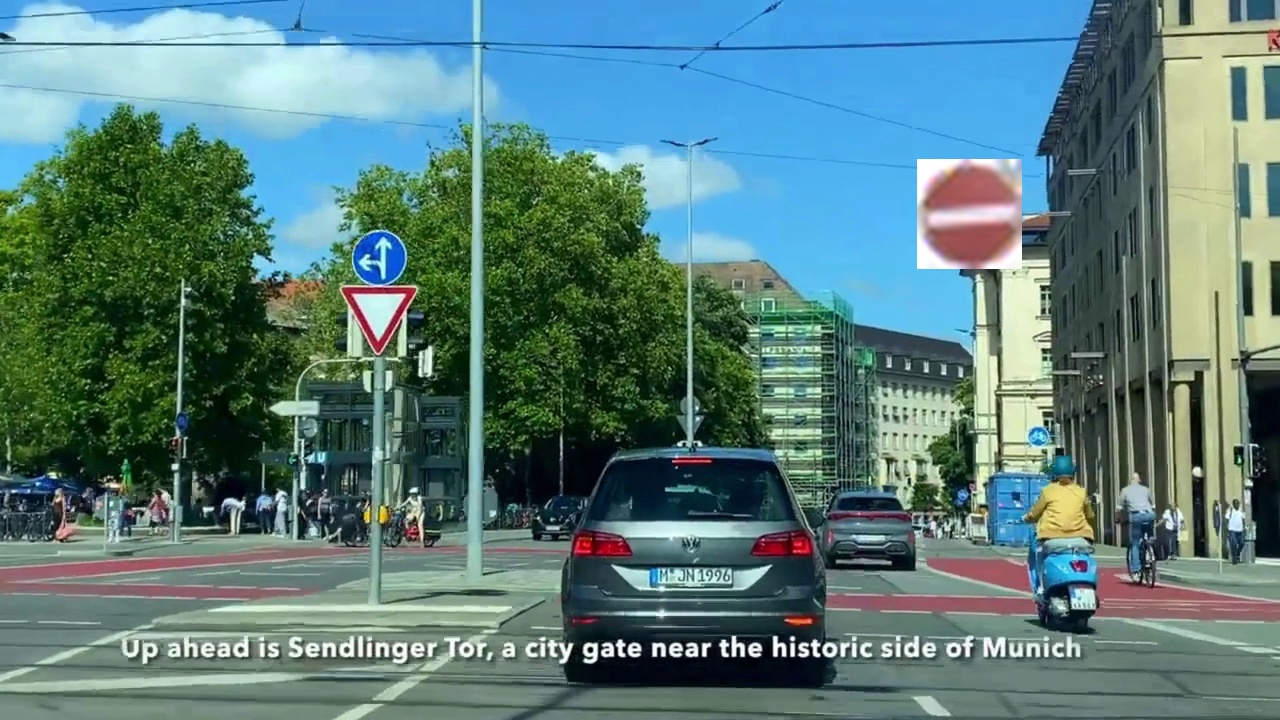No entry: (917, 159, 1022, 269)
